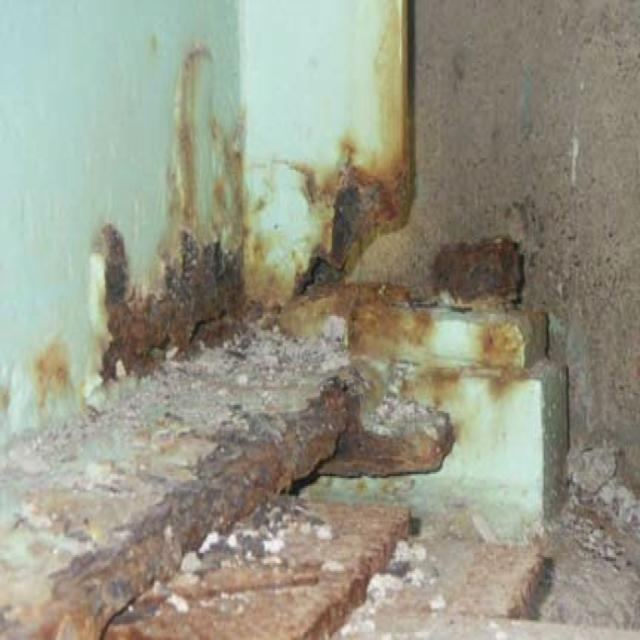corrosion: (74, 83, 516, 528)
